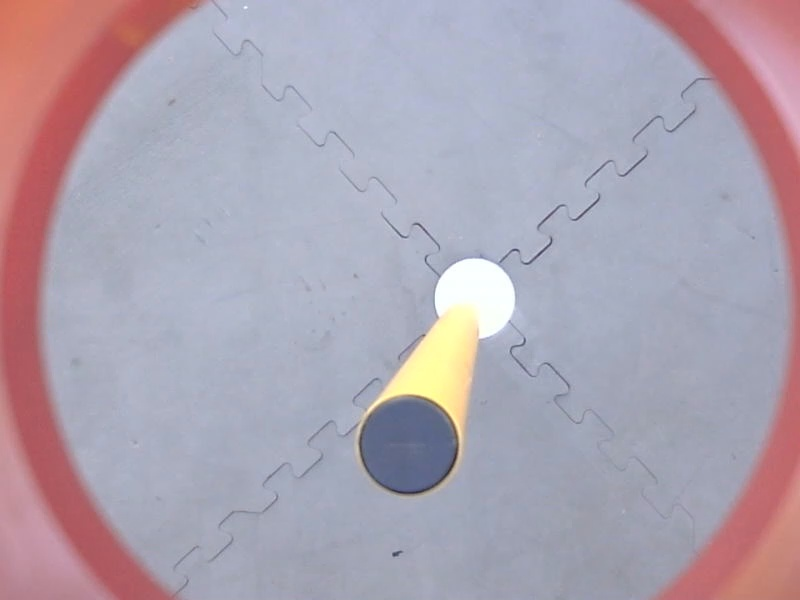tip: (351, 387, 468, 503)
